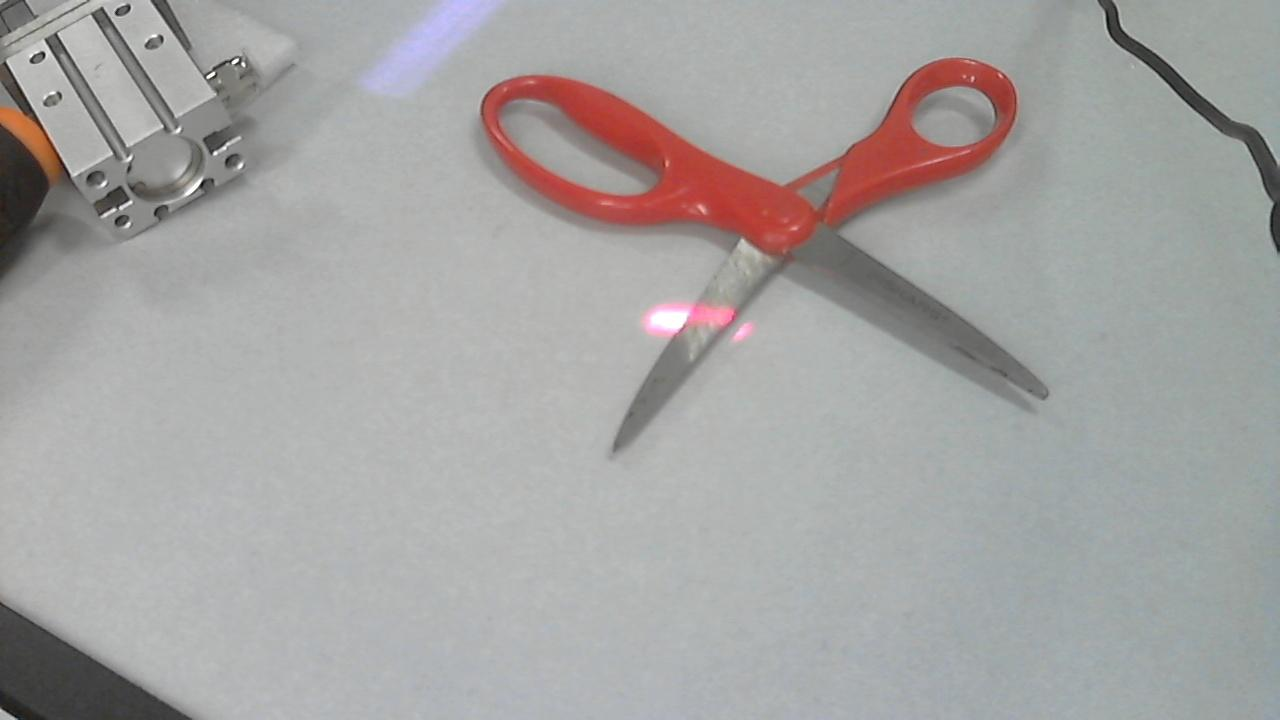Object scissors - Material metal - Pdfname tYexGlkiIXWc: (612, 273, 748, 328), (628, 297, 742, 337)
